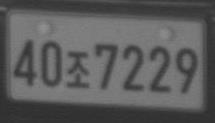0: (40, 40, 63, 87)
2: (122, 44, 145, 91), (148, 46, 171, 93)
4: (13, 39, 37, 87)
7: (94, 43, 119, 90)
9: (175, 47, 198, 93)
조: (66, 50, 91, 89)
